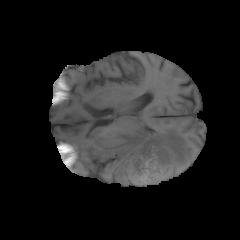glioma: (101, 128, 187, 186)
